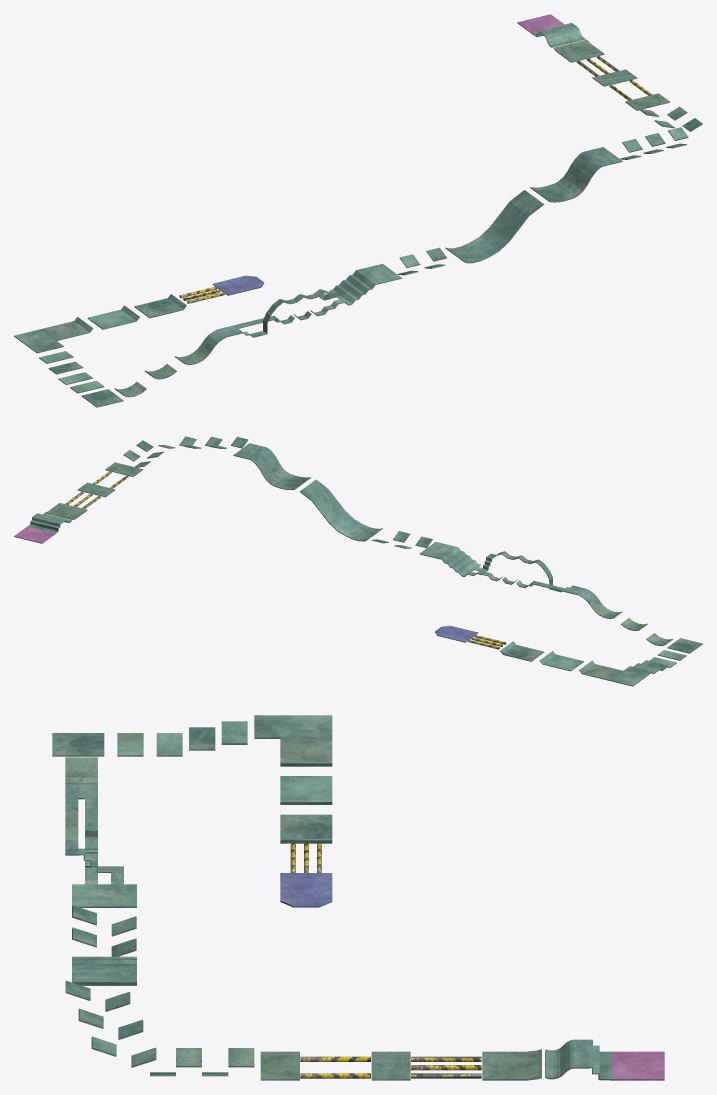
The model's file is level10.dae.
3 views of the same model, one above another, from view 1: azimuth 30°, elevation 25°; view 2: azimuth 150°, elevation 25°; view 3: azimuth 270°, elevation 25° (orthographic). The views are drawn at different scales.
Visible parts, largest first — view 1: Plane; view 2: Plane; view 3: Plane.
Boxes of the visible parts, left/top/right/bottom form: Plane: left=14, top=14, right=702, bottom=407; Plane: left=14, top=436, right=702, bottom=686; Plane: left=52, top=715, right=664, bottom=1080.
Size of what is drawn, in the model's own units: 190 by 94 by 33.43.
4 materials, 4 textured.
